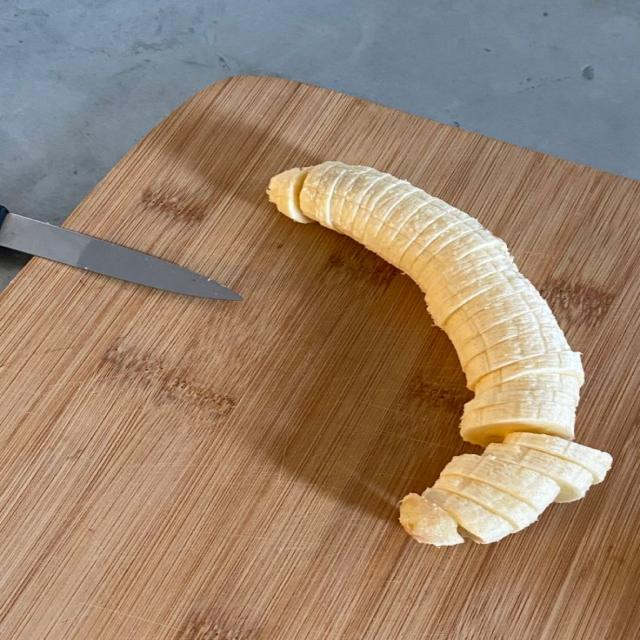banana slice: (268, 162, 610, 545), (441, 454, 559, 512), (487, 443, 593, 502), (454, 316, 568, 368), (463, 340, 579, 390), (434, 476, 539, 530), (505, 433, 612, 483), (460, 400, 575, 446), (423, 489, 516, 543), (472, 351, 584, 392), (475, 372, 581, 405), (400, 494, 463, 546), (467, 387, 575, 410), (268, 169, 314, 223)
